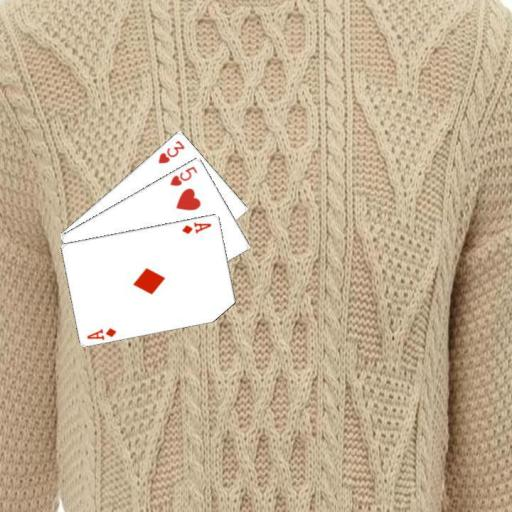3H: (155, 137, 186, 165)
5H: (167, 163, 199, 188)
AD: (179, 218, 213, 235), (84, 324, 118, 341)
